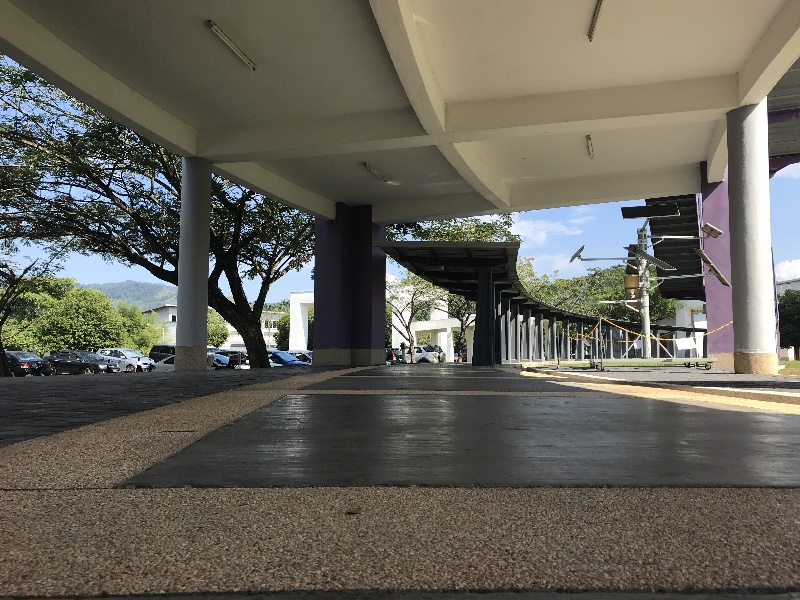Block D Pillar 5: (4, 8, 800, 553)
pillar: (712, 99, 793, 378), (299, 194, 405, 378), (169, 146, 217, 375), (468, 264, 501, 376)
